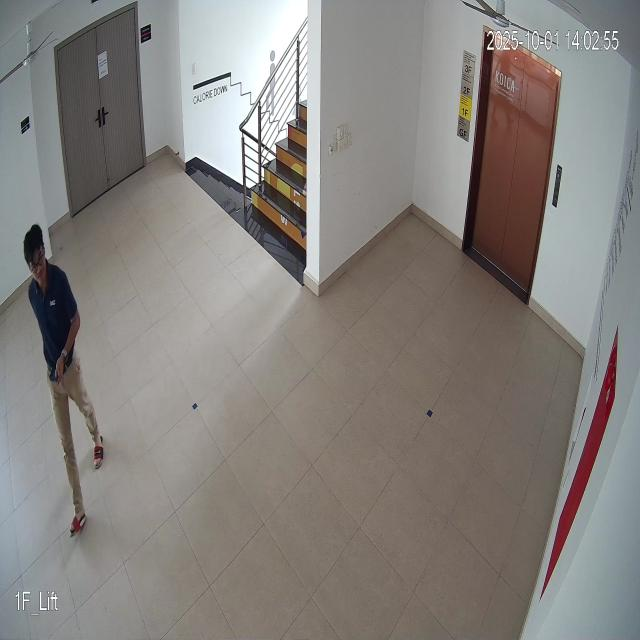face: (19, 226, 52, 291)
